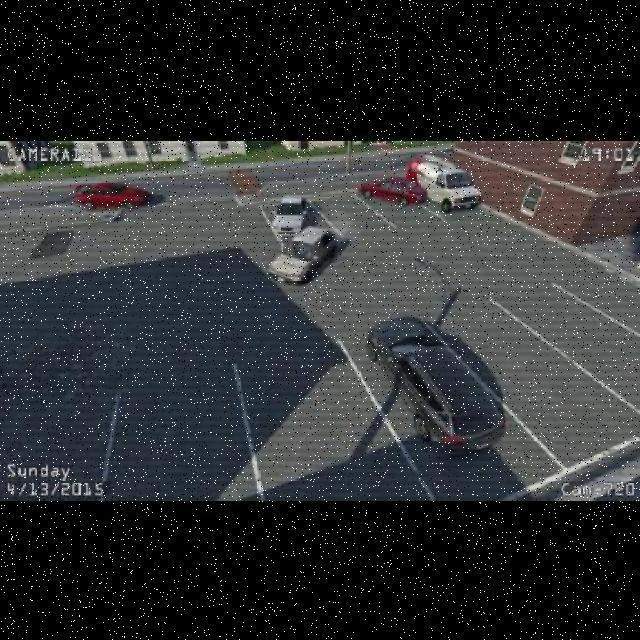accident: (377, 164, 446, 202)
